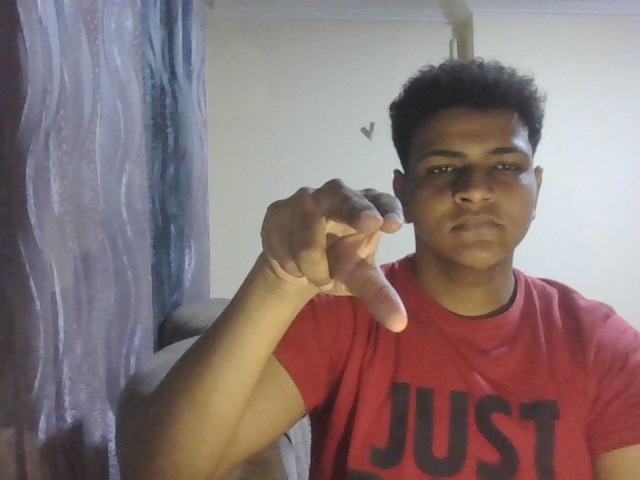no: (250, 156, 413, 386)
